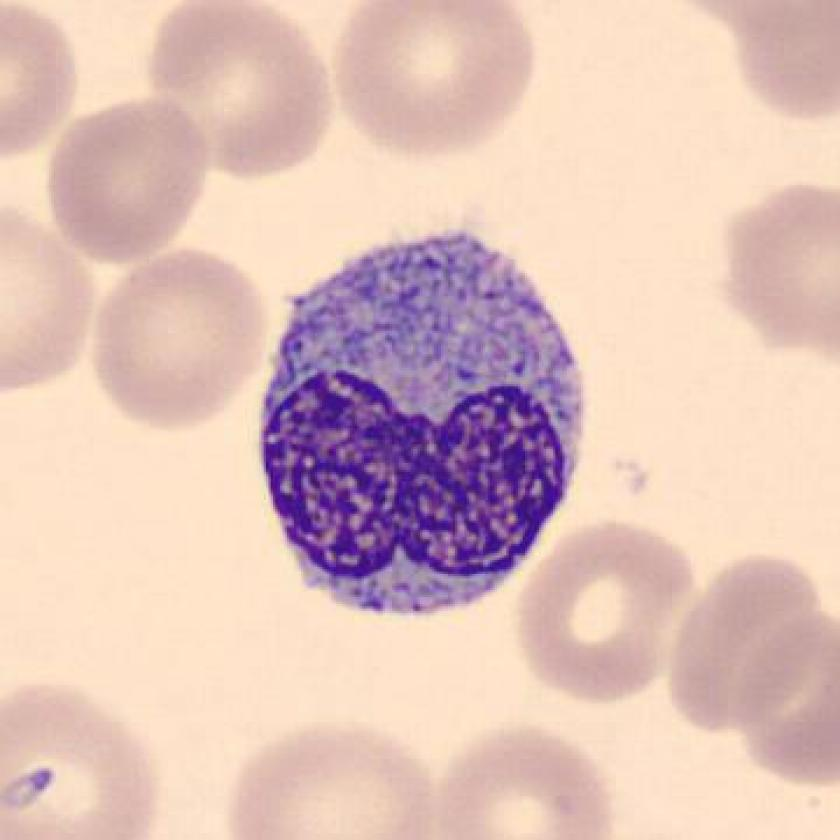monocyte: (246, 209, 608, 642)
